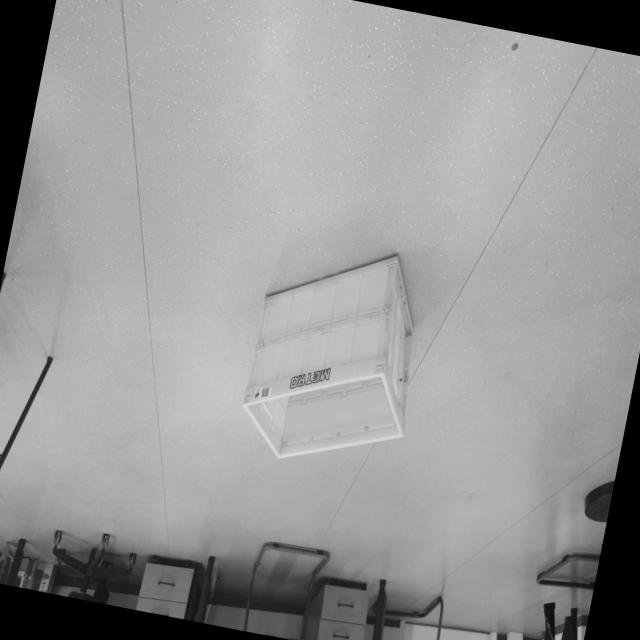box: (225, 222, 454, 501)
